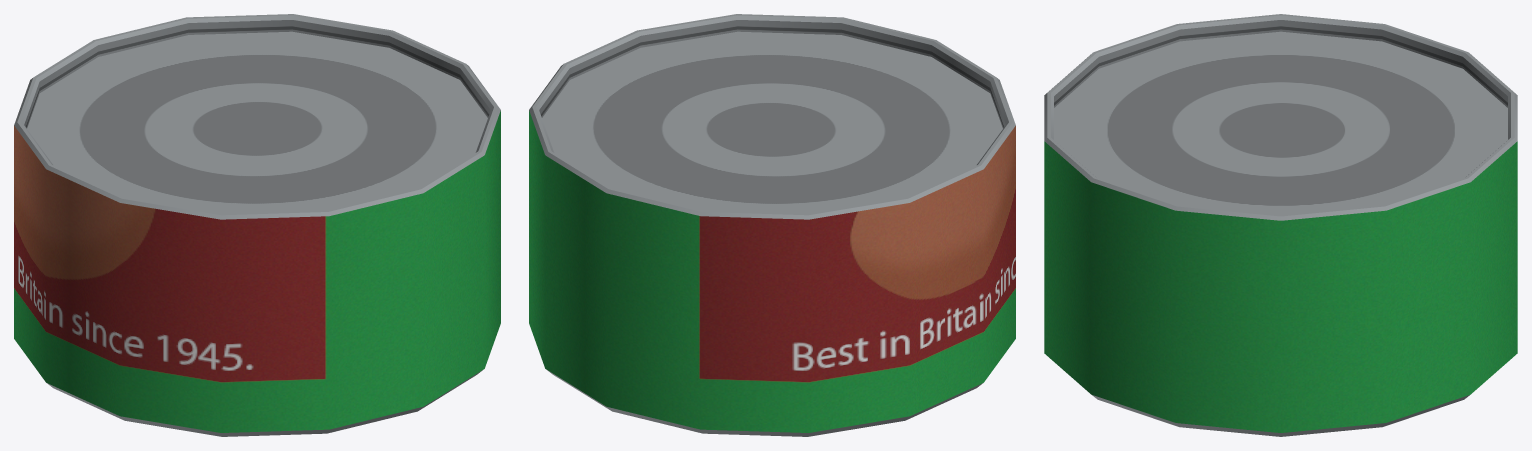
Rendered from tuna.FBX.
The picture shows the model from 3 angles, left to right: view 1: azimuth 30°, elevation 25°; view 2: azimuth 150°, elevation 25°; view 3: azimuth 270°, elevation 25°; orthographic projection.
Visible parts, largest first — view 1: Cylinder001; view 2: Cylinder001; view 3: Cylinder001.
Part boxes in pixels (<box>): Cylinder001: <box>14,14,500,436</box>; Cylinder001: <box>529,14,1015,436</box>; Cylinder001: <box>1044,14,1517,436</box>.
Size of the model in its own units: 11.71 by 5.92 by 11.41.
